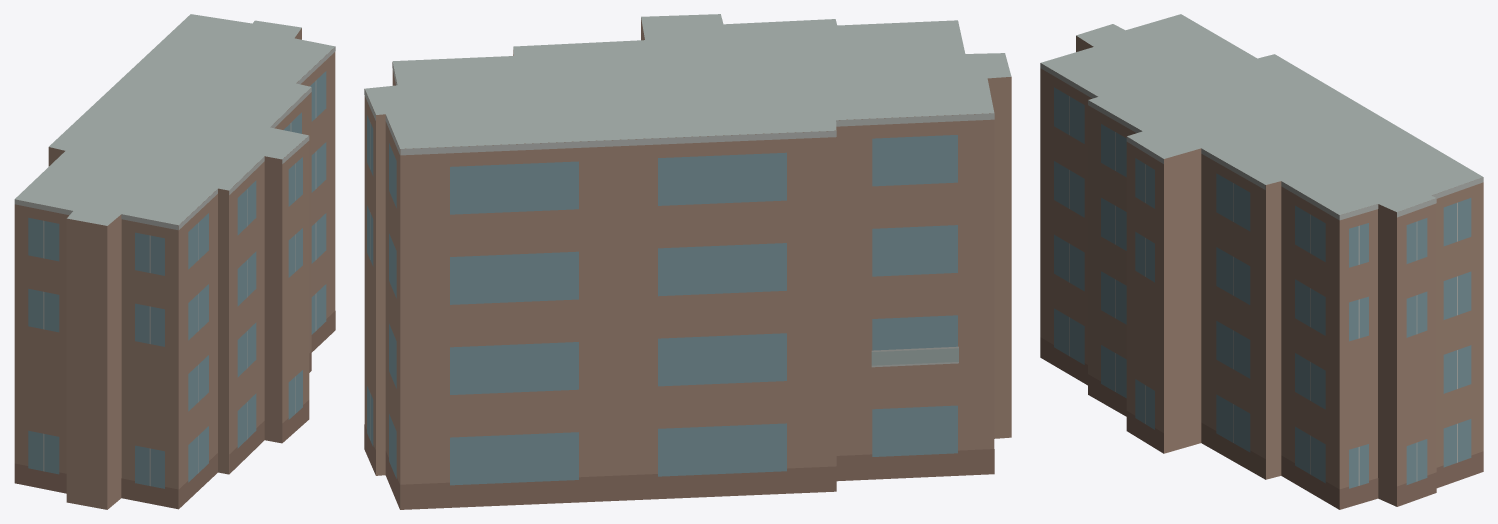
Rendered from survey-upis-32970609.glb.
3 views of the same model, side by side, from view 1: azimuth 30°, elevation 25°; view 2: azimuth 150°, elevation 25°; view 3: azimuth 270°, elevation 25° (orthographic). The views are drawn at different scales.
Visible parts, largest first — view 1: survey-upis-32970609.tmp; view 2: survey-upis-32970609.tmp; view 3: survey-upis-32970609.tmp.
Part boxes in pixels (x1=…): survey-upis-32970609.tmp: x1=14, y1=14, x2=335, y2=509; survey-upis-32970609.tmp: x1=364, y1=14, x2=1011, y2=509; survey-upis-32970609.tmp: x1=1040, y1=14, x2=1483, y2=509.
Size of the model in its own units: 20.07 by 13.7 by 18.68.
